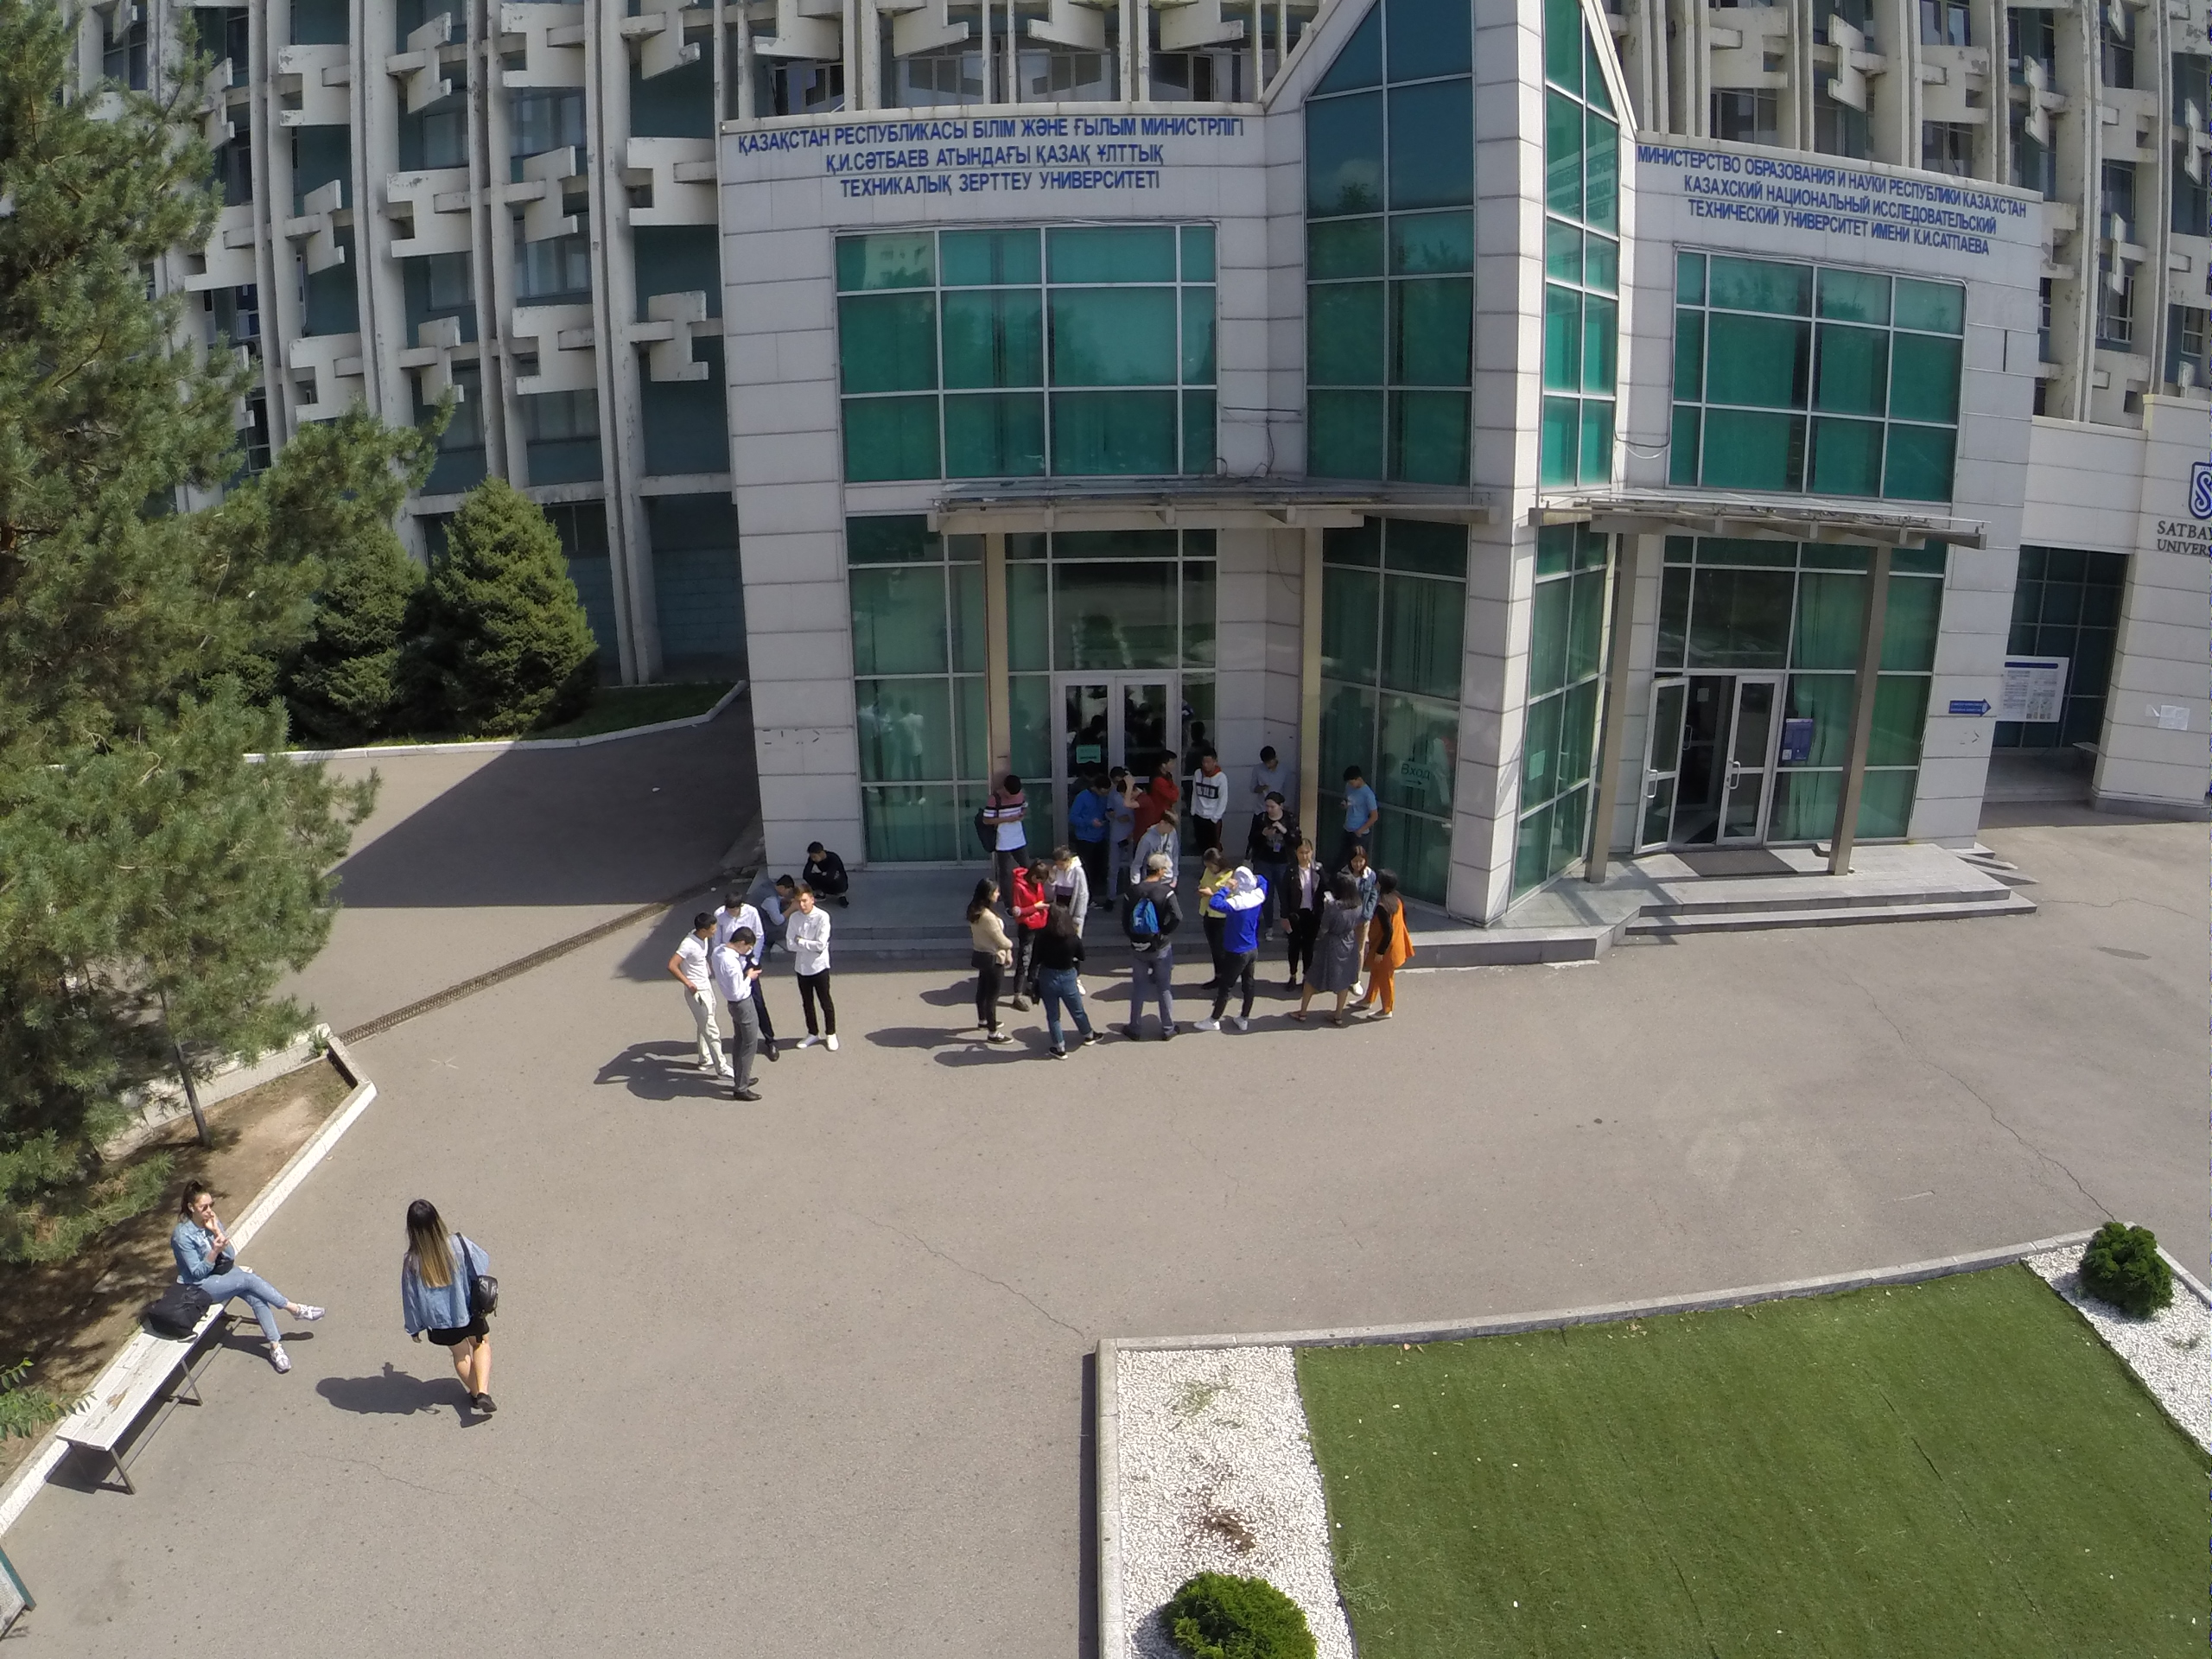person: (152, 1169, 326, 1380), (385, 1191, 507, 1428), (1033, 897, 1104, 1066), (664, 914, 729, 1083), (1208, 863, 1272, 1039), (1126, 851, 1180, 1045), (783, 888, 846, 1053), (1296, 869, 1358, 1029), (1249, 791, 1307, 946), (1278, 836, 1332, 996), (967, 879, 1015, 1050), (1364, 868, 1413, 1024), (799, 836, 863, 912), (982, 767, 1027, 872), (1010, 854, 1040, 1013), (1192, 843, 1234, 945), (745, 872, 802, 947), (1185, 754, 1230, 849), (1338, 766, 1381, 848), (1053, 838, 1090, 918), (1077, 773, 1110, 855), (1249, 741, 1289, 797), (1149, 749, 1183, 813), (1147, 814, 1183, 874), (721, 902, 751, 951), (1345, 847, 1371, 884)
